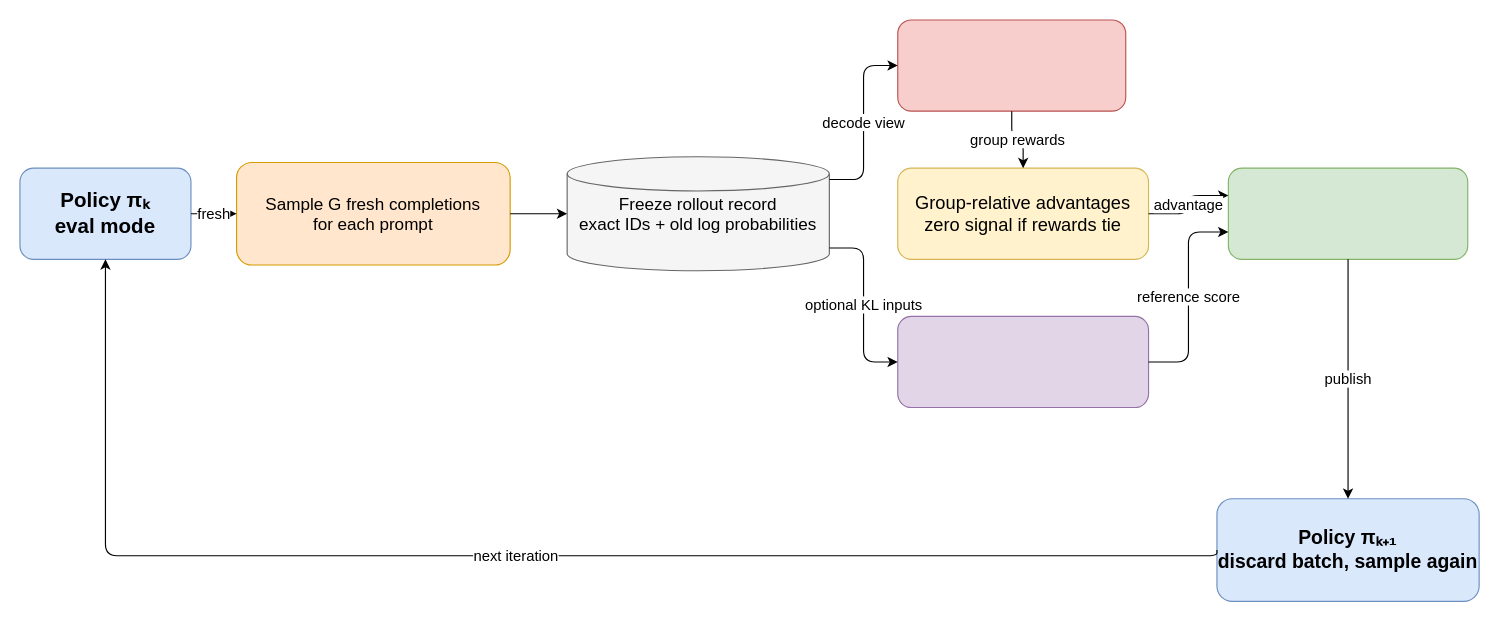
This 1499x621 diagram has some shape labels left out. Each missing label, with the centre of its shape:
"One clipped update current / old token ratios" belongs at point 1347,213.
"Optional frozen reference score the same stored IDs" belongs at point 1023,361.
"Strict verifier reward each completion" belongs at point 1011,65.
